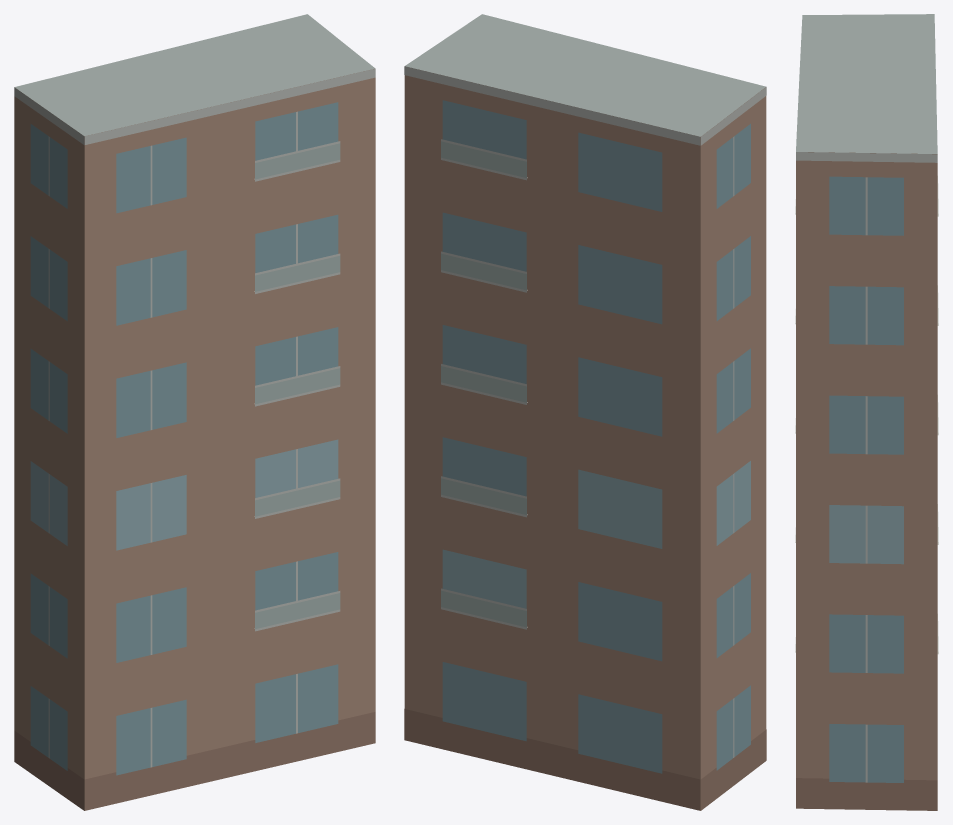
The model's file is survey-upis-32816868.glb.
3 views of the same model, side by side, from view 1: azimuth 30°, elevation 25°; view 2: azimuth 150°, elevation 25°; view 3: azimuth 270°, elevation 25° (orthographic). The views are drawn at different scales.
Visible parts, largest first — view 1: survey-upis-32816868.tmp; view 2: survey-upis-32816868.tmp; view 3: survey-upis-32816868.tmp.
Part boxes in pixels (x1=…): survey-upis-32816868.tmp: x1=14, y1=14, x2=375, y2=810; survey-upis-32816868.tmp: x1=404, y1=14, x2=766, y2=810; survey-upis-32816868.tmp: x1=795, y1=14, x2=938, y2=810.
Bounding box in the file's own units: 8.38 × 18.3 × 3.63.
